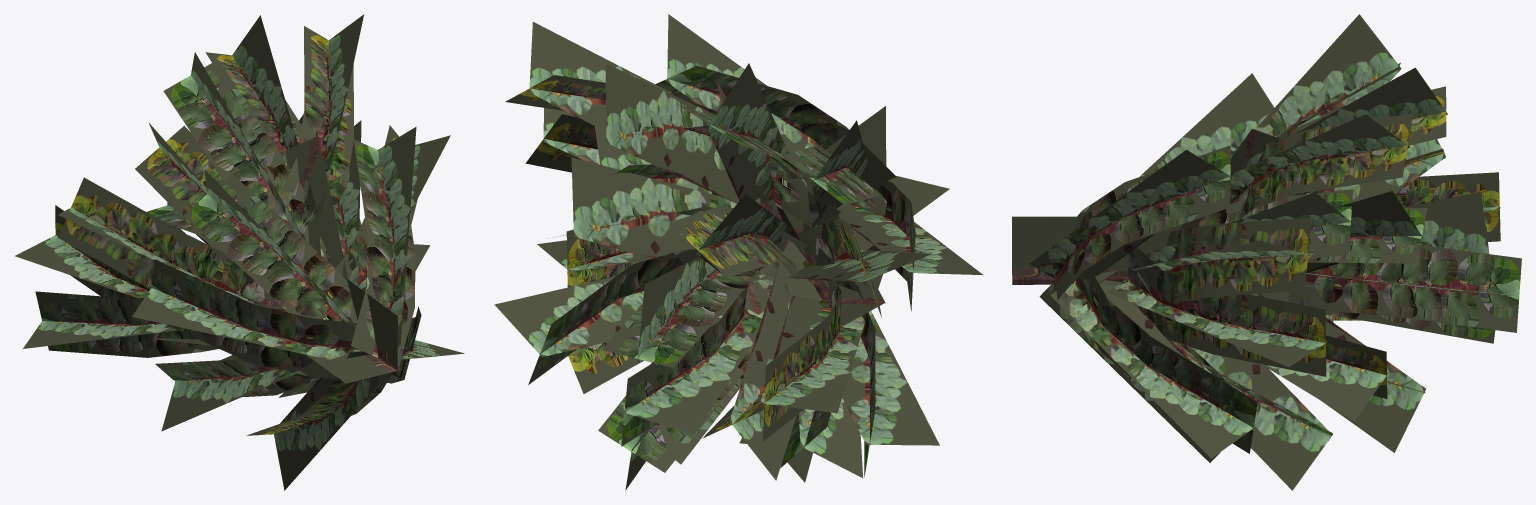
File: Bush2.fbx
3 renders of one model, left to right at view 1: azimuth 30°, elevation 25°; view 2: azimuth 150°, elevation 25°; view 3: azimuth 270°, elevation 25°, orthographic. The views are drawn at different scales.
Parts seen in each view (by area): view 1: Bush2; view 2: Bush2; view 3: Bush2.
Boxes of the visible parts, bbox=[...] form: Bush2: bbox=[15, 14, 464, 490]; Bush2: bbox=[494, 14, 983, 490]; Bush2: bbox=[1012, 14, 1521, 490].
Size of the model in its own units: 23.78 by 23.98 by 25.34.
